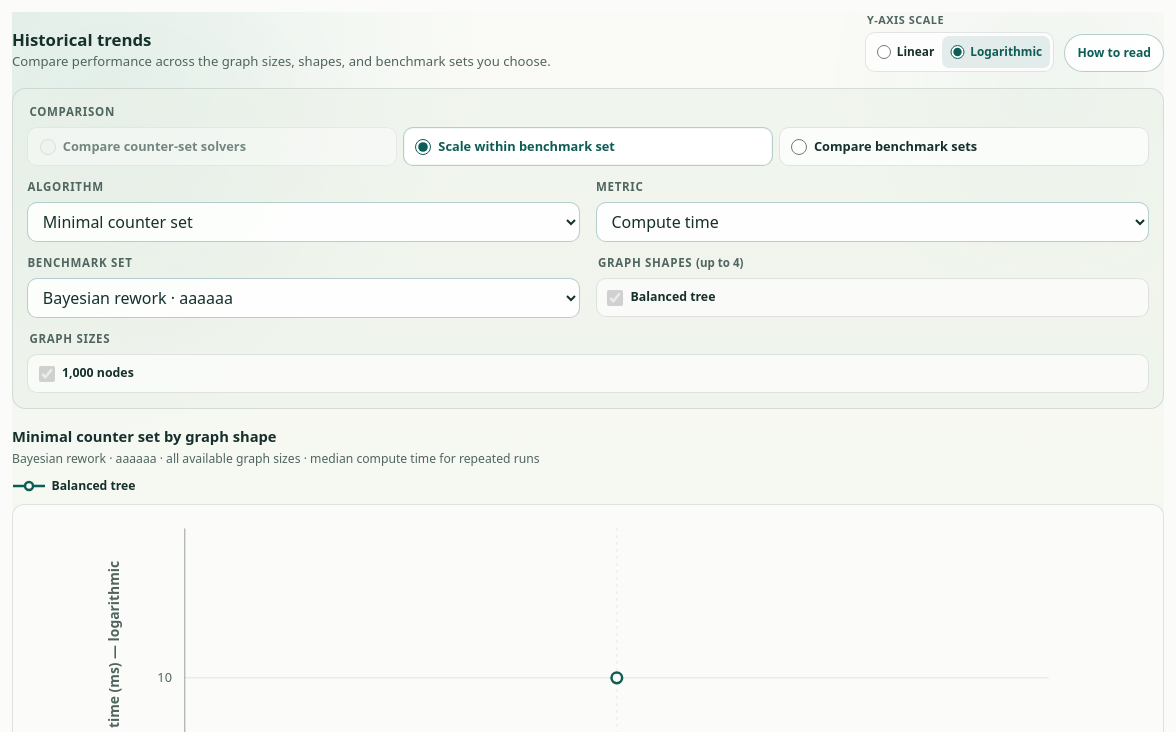
it: InsightsLabTrends › disambiguates benchmark sets that share a display name
Click the radio button labelled "Compare benchmark sets".
click(799, 147)  # box [791,139,807,155]
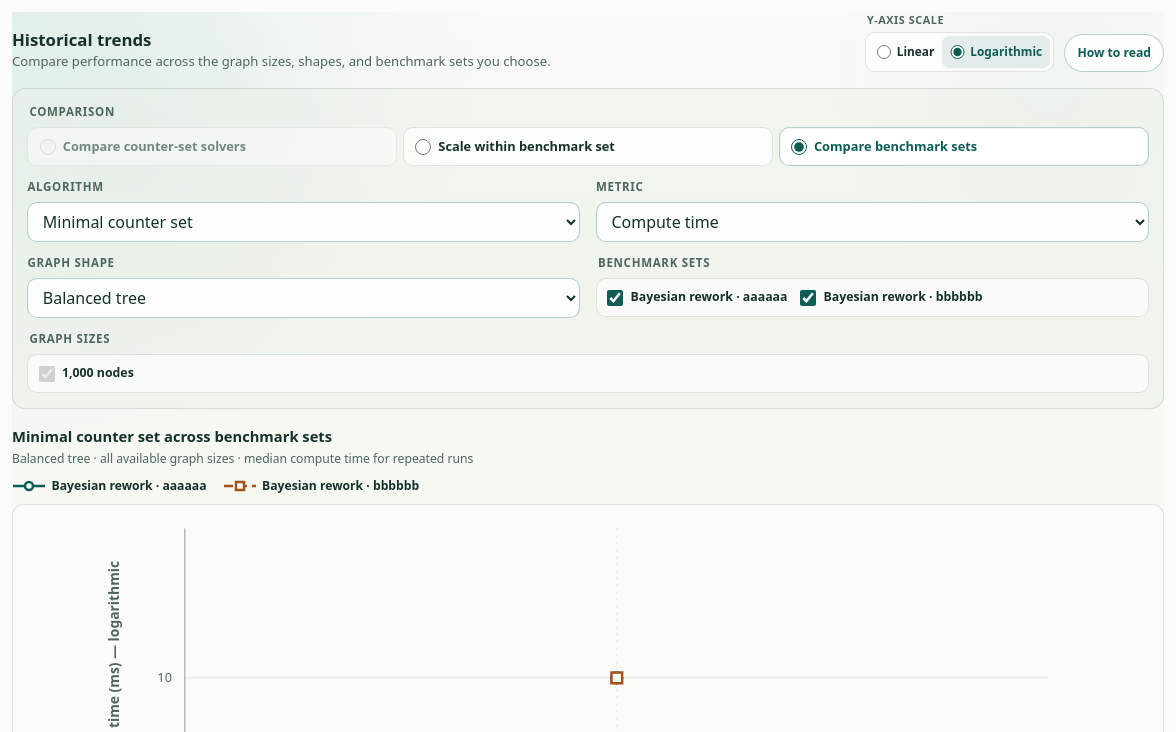
Expected: the 2nd text "Bayesian rework · aaaaaa" is shown, [52,477,206,495]
Expected: the 2nd text "Bayesian rework · bbbbbb" is shown, [262,477,419,495]
